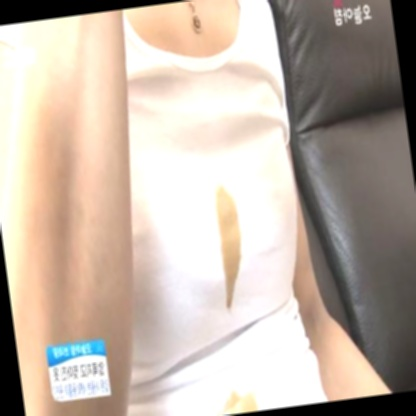coffee: (214, 185, 240, 277)
